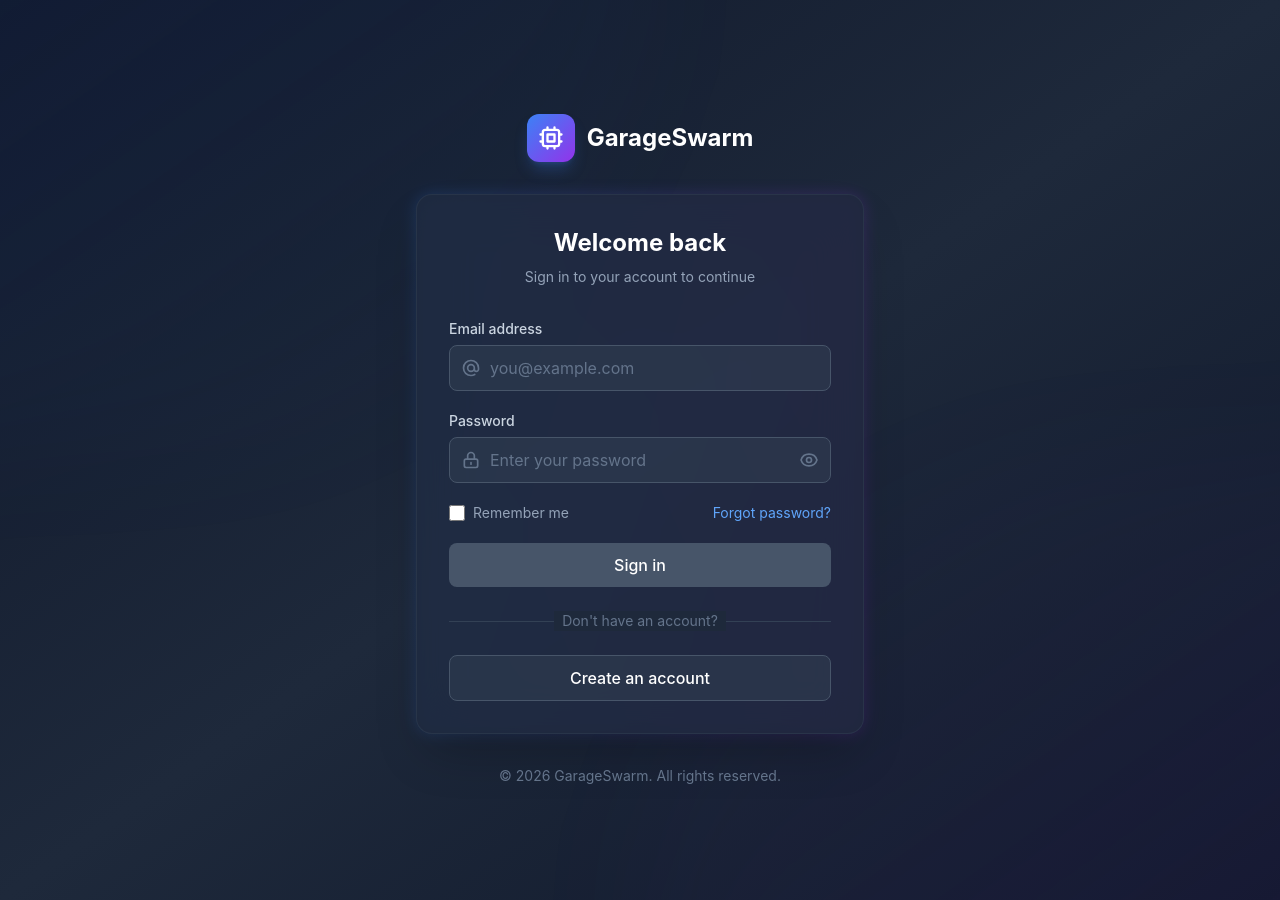
it: Login Page › Form Validation › enables submit button when both fields are filled
Type "test@example.com" into the field labelled "Email address".
click(640, 368); type("test@example.com")  # box [449,345,831,391]
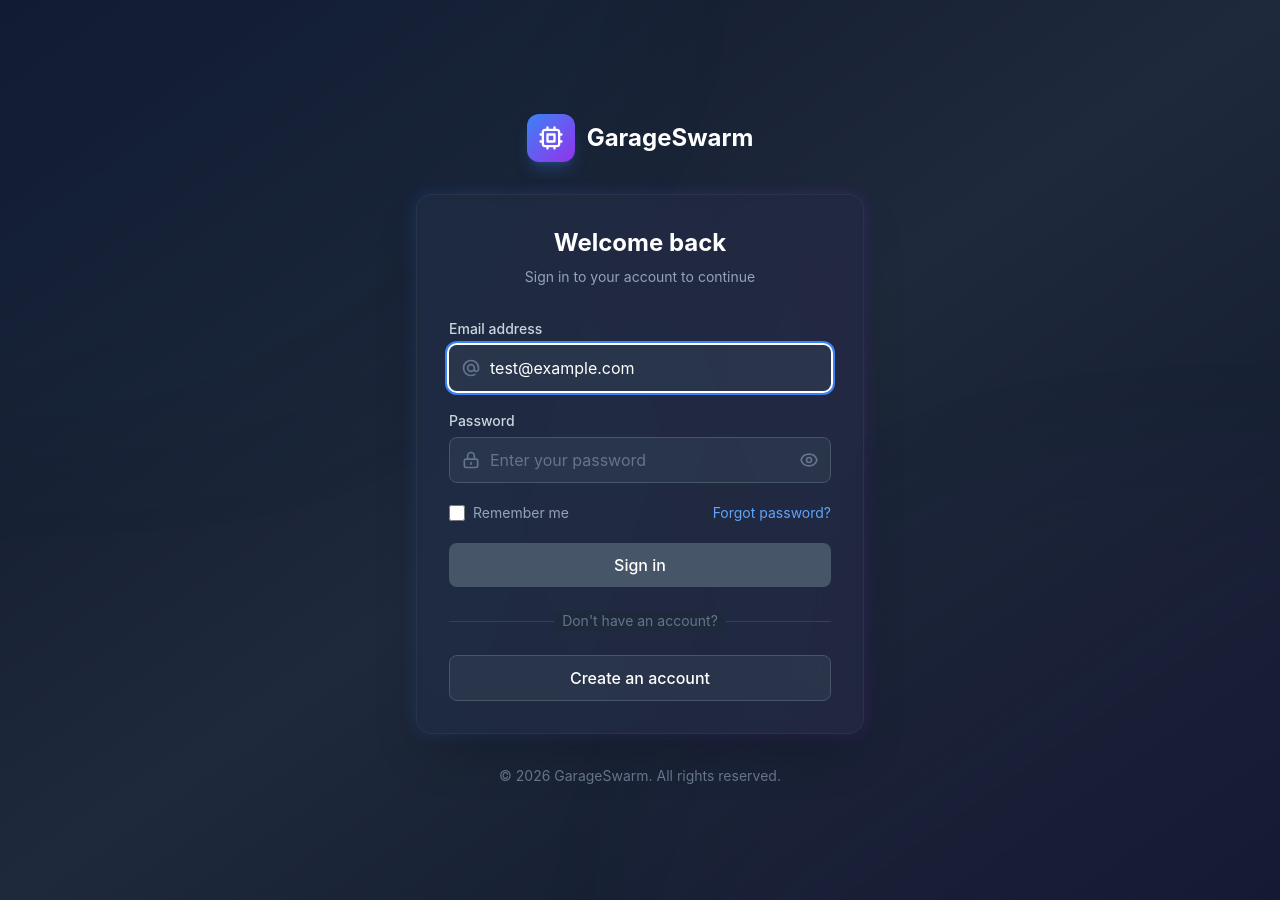
Type "password123" into the password field labelled "Password".
click(640, 460); type("password123")  # box [449,437,831,483]
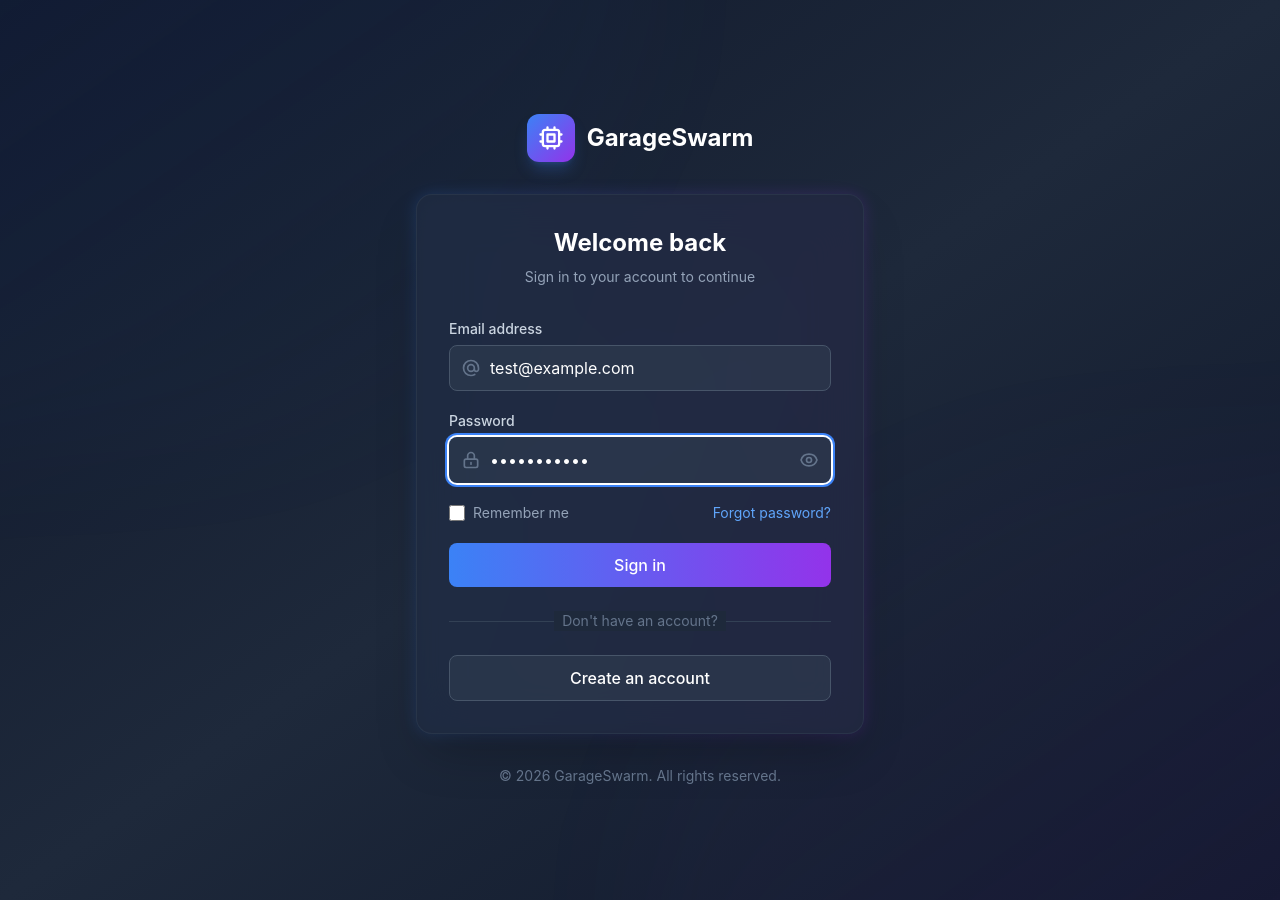
Check: the button "Sign in" is enabled, box [449,543,831,587]
